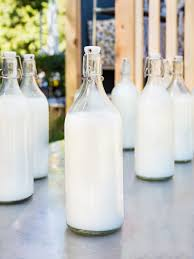milk: (69, 50, 126, 240), (138, 48, 194, 180), (3, 52, 48, 205)
